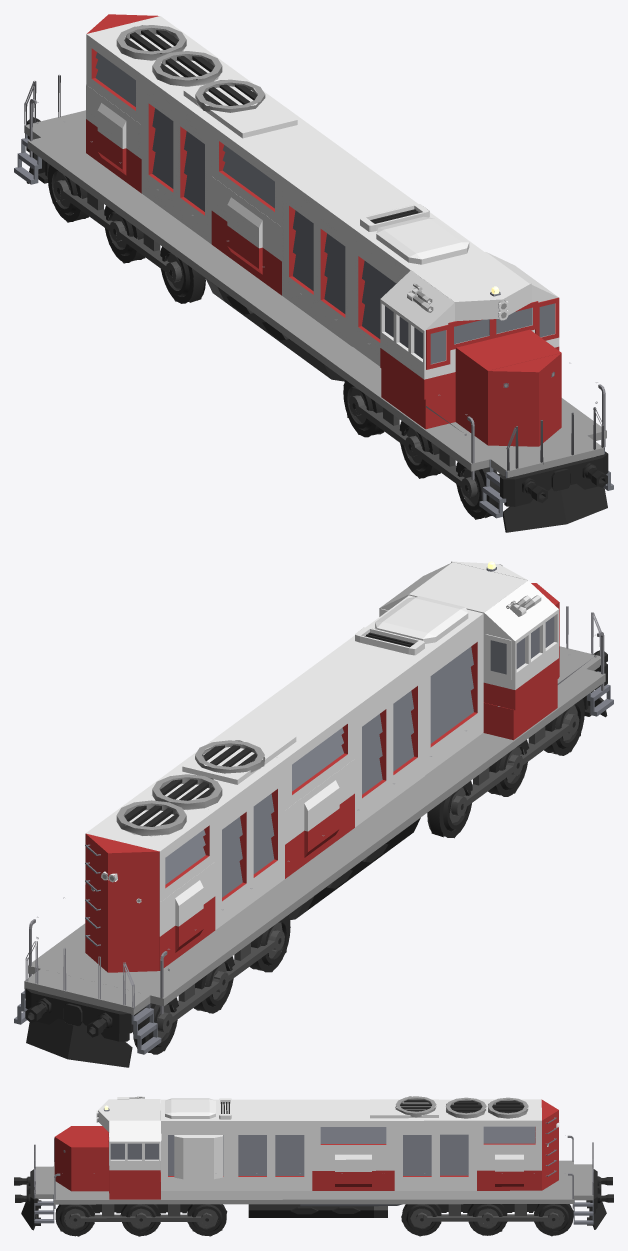
The model's file is train.glb.
3 views of the same model, one above another, from view 1: azimuth 30°, elevation 25°; view 2: azimuth 150°, elevation 25°; view 3: azimuth 270°, elevation 25° (orthographic). The views are drawn at different scales.
Visible parts, largest first — view 1: 02 Bus Middle 01_blueSteel(Clone)_0.001; view 2: 02 Bus Middle 01_blueSteel(Clone)_0.001; view 3: 02 Bus Middle 01_blueSteel(Clone)_0.001.
Boxes of the visible parts, x1,y1,x2,y2 form: 02 Bus Middle 01_blueSteel(Clone)_0.001: (14, 14, 613, 532); 02 Bus Middle 01_blueSteel(Clone)_0.001: (14, 561, 613, 1067); 02 Bus Middle 01_blueSteel(Clone)_0.001: (14, 1096, 613, 1236).
Bounding box in the file's own units: 3.27 × 4.55 × 21.
